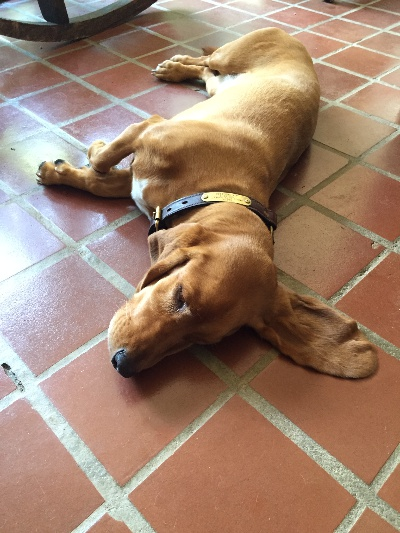daisy: (80, 224, 385, 396)
